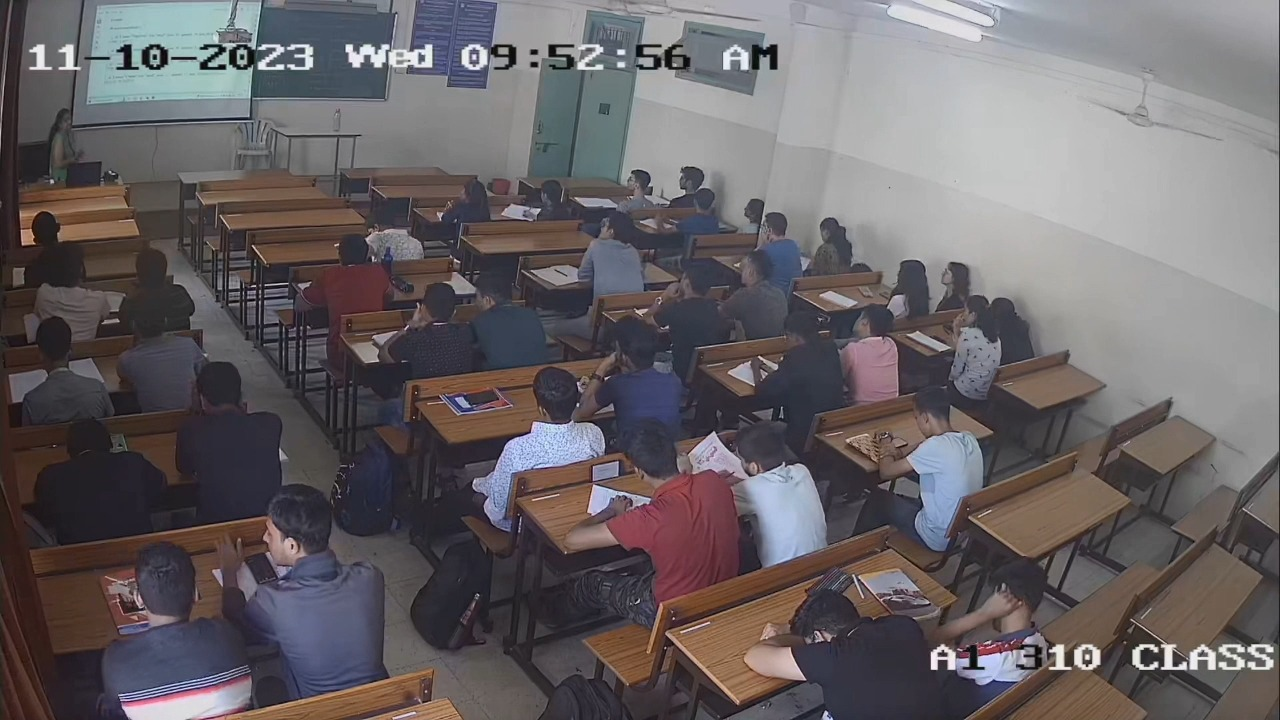cell-phones: (244, 548, 280, 588), (590, 458, 625, 482), (462, 387, 500, 406), (755, 359, 777, 375), (857, 284, 875, 299), (890, 435, 910, 448)
person: (222, 480, 389, 658), (578, 417, 742, 594), (475, 363, 606, 499), (875, 385, 987, 497), (753, 310, 845, 423), (882, 259, 931, 319)
